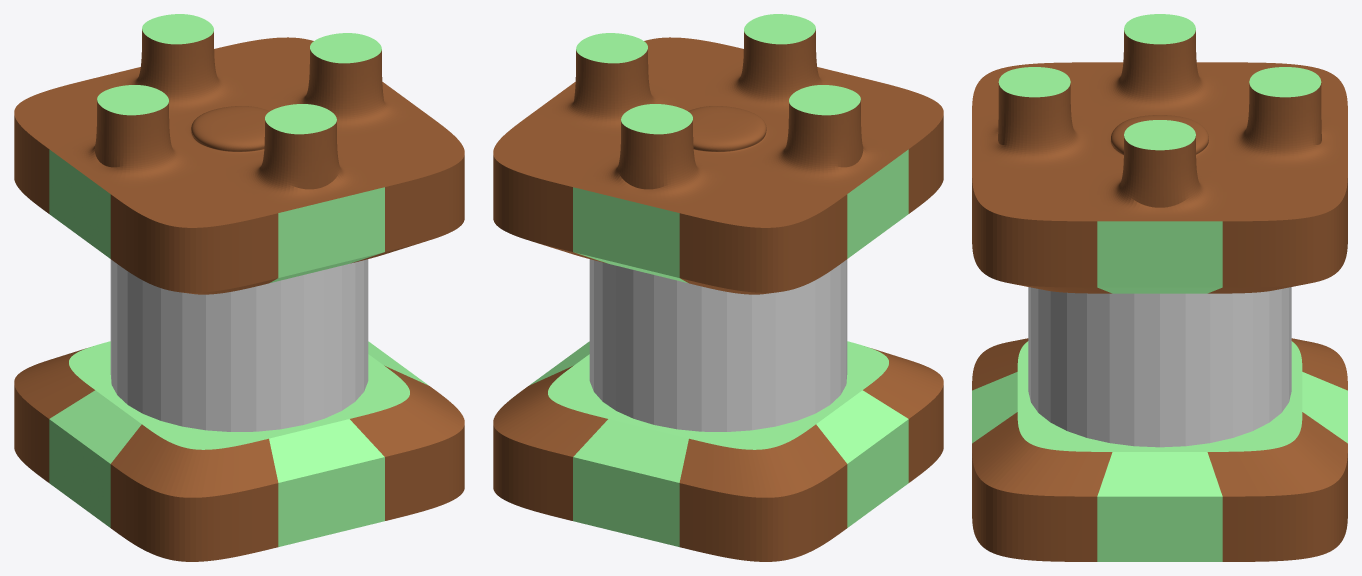
Rendered from Generador4.fbx.
The picture shows the model from 3 angles, left to right: view 1: azimuth 30°, elevation 25°; view 2: azimuth 150°, elevation 25°; view 3: azimuth 270°, elevation 25°; orthographic projection.
Parts seen in each view (by area): view 1: Bases, Vidrio; view 2: Bases, Vidrio; view 3: Bases, Vidrio.
Part boxes in pixels (x1,y1,x2,y2): Bases: [14, 14, 464, 561]; Vidrio: [110, 259, 368, 431]; Bases: [493, 14, 943, 561]; Vidrio: [589, 259, 847, 431]; Bases: [972, 14, 1347, 561]; Vidrio: [1028, 287, 1291, 447].
Size of the model in its own units: 200 by 235 by 200.
